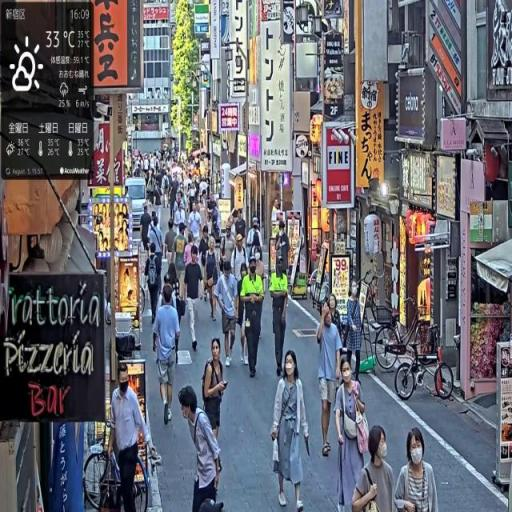person: (270, 350, 313, 512), (111, 362, 151, 512), (179, 386, 225, 512), (334, 356, 371, 512), (351, 424, 398, 512), (393, 427, 441, 512), (317, 304, 344, 455), (153, 284, 181, 429), (202, 337, 230, 457), (241, 257, 267, 380), (215, 259, 240, 369), (145, 243, 162, 332), (204, 238, 221, 324), (141, 202, 153, 257)
